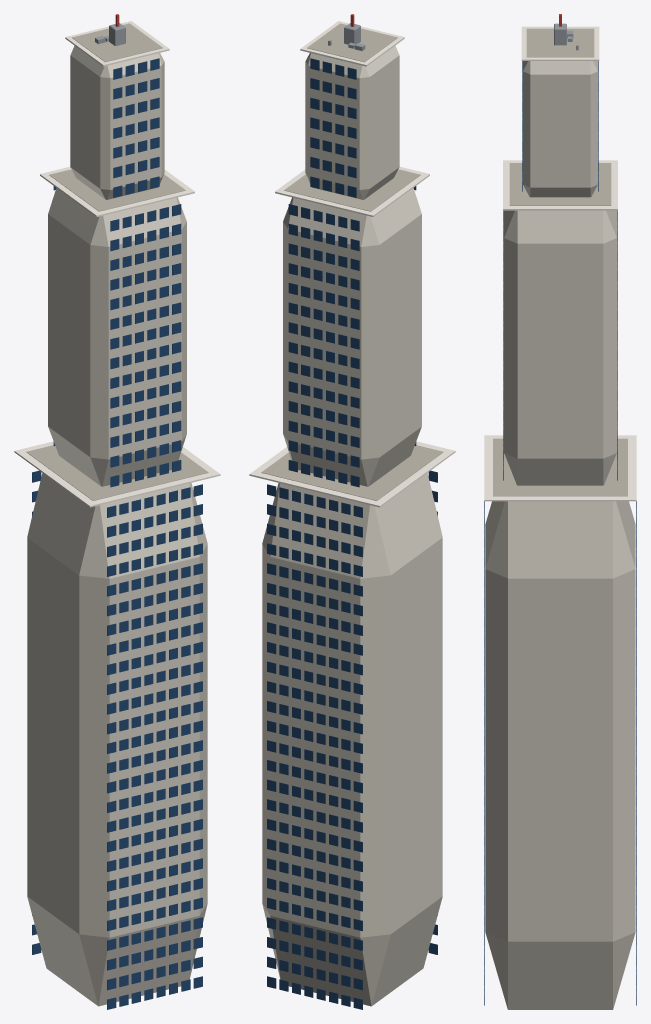
The model's file is tower_setback_h180.glb.
3 renders of one model, left to right at view 1: azimuth 30°, elevation 25°; view 2: azimuth 150°, elevation 25°; view 3: azimuth 270°, elevation 25°, orthographic.
Parts seen in each view (by area): view 1: t1, t2, t3, tierroof, tierlip, tierroof.001, tierroof.002, tierlip.001, tierlip.002; view 2: t1, t2, t3, tierroof, tierlip, tierroof.001, tierroof.002, tierlip.001, tierlip.002; view 3: t1, t2, t3, tierroof, tierlip, tierroof.001, tierroof.002, tierlip.001, tierlip.002.
Part boxes in pixels (left/top/right/bottom): t1: left=27, top=473, right=207, bottom=1006; t2: left=48, top=188, right=186, bottom=486; t3: left=70, top=45, right=164, bottom=199; tierroof: left=26, top=445, right=208, bottom=500; tierlip: left=14, top=441, right=220, bottom=507; tierroof.001: left=49, top=169, right=185, bottom=211; tierroof.002: left=72, top=23, right=162, bottom=62; tierlip.001: left=40, top=167, right=194, bottom=216; tierlip.002: left=65, top=21, right=169, bottom=66; t1: left=262, top=473, right=442, bottom=1006; t2: left=283, top=188, right=421, bottom=486; t3: left=305, top=45, right=399, bottom=199; tierroof: left=261, top=445, right=443, bottom=500; tierlip: left=249, top=441, right=455, bottom=507; tierroof.001: left=284, top=169, right=420, bottom=211; tierroof.002: left=307, top=23, right=397, bottom=62; tierlip.001: left=275, top=167, right=429, bottom=216; tierlip.002: left=300, top=21, right=404, bottom=66; t1: left=485, top=501, right=635, bottom=1009; t2: left=504, top=210, right=616, bottom=485; t3: left=523, top=61, right=597, bottom=197; tierroof: left=493, top=438, right=627, bottom=496; tierlip: left=484, top=435, right=636, bottom=501; tierroof.001: left=509, top=163, right=611, bottom=205; tierroof.002: left=526, top=28, right=594, bottom=57; tierlip.001: left=503, top=160, right=617, bottom=210; tierlip.002: left=521, top=26, right=599, bottom=60.
Size of the model in its own units: 26.4 by 186 by 26.4.
